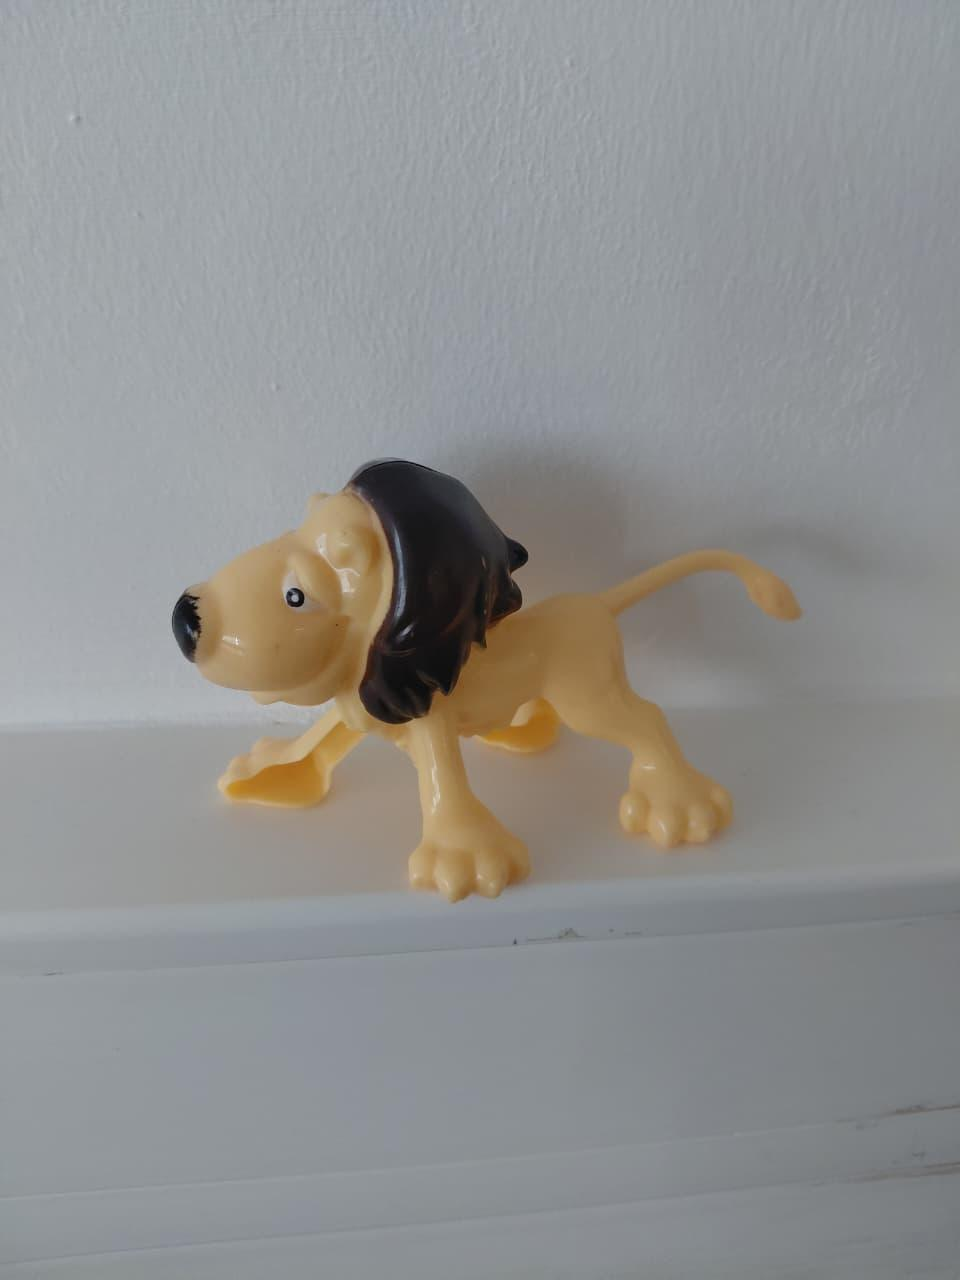lion: (135, 405, 844, 971)
